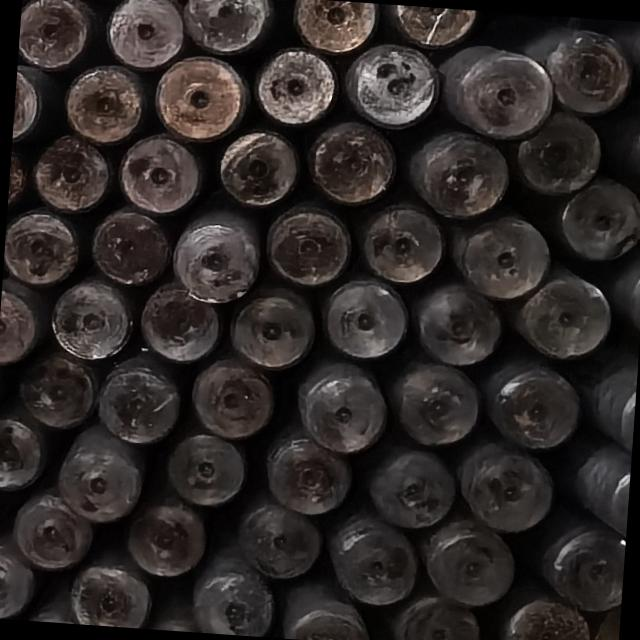tool: (394, 126, 510, 223), (476, 353, 584, 453), (526, 508, 628, 613), (350, 433, 459, 528), (288, 351, 390, 452), (508, 264, 614, 361), (168, 198, 264, 302), (452, 44, 552, 142), (321, 511, 422, 608), (458, 441, 558, 535), (300, 118, 400, 210), (56, 422, 146, 524), (452, 210, 552, 301), (417, 517, 517, 608), (338, 42, 441, 130), (354, 196, 453, 285), (150, 55, 248, 144), (541, 28, 634, 118), (94, 352, 182, 447), (410, 282, 506, 368), (551, 174, 640, 266), (261, 199, 351, 289), (317, 274, 411, 360), (2, 347, 101, 428), (114, 494, 208, 579), (226, 284, 316, 372), (80, 201, 174, 285), (514, 108, 602, 197), (47, 273, 136, 360), (213, 127, 301, 214), (231, 498, 322, 582), (140, 276, 226, 364), (250, 40, 340, 124), (186, 352, 274, 437), (115, 130, 201, 213), (60, 59, 146, 142), (8, 491, 94, 572), (584, 336, 640, 450), (162, 431, 245, 507), (2, 203, 78, 285), (268, 440, 346, 517), (102, 0, 189, 69), (66, 558, 154, 626), (17, 0, 94, 72), (178, 0, 275, 55), (33, 139, 110, 208), (291, 0, 387, 52), (200, 576, 278, 638), (387, 589, 481, 640), (596, 83, 640, 185), (0, 276, 41, 369), (0, 414, 45, 496), (394, 5, 472, 48), (0, 534, 36, 618), (286, 610, 373, 640), (12, 65, 44, 144), (513, 605, 584, 640), (628, 21, 640, 90)
tool_b: (609, 241, 640, 352)
